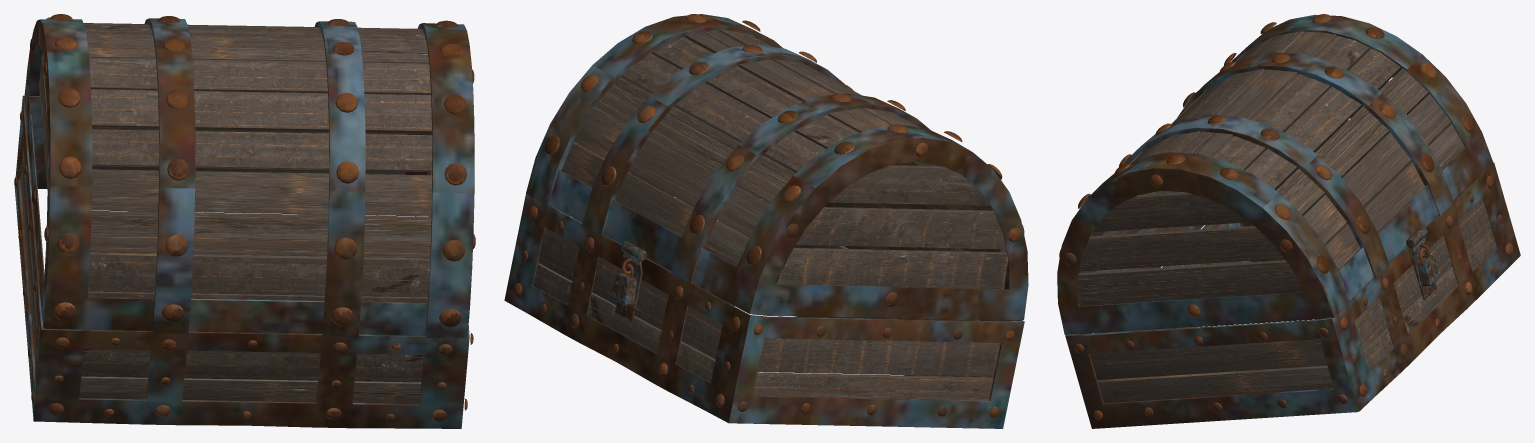
File: chest-transformed.glb
3 views of the same model, side by side, from view 1: azimuth 30°, elevation 25°; view 2: azimuth 150°, elevation 25°; view 3: azimuth 270°, elevation 25° (orthographic). The views are drawn at different scales.
Parts seen in each view (by area): view 1: Object_60; view 2: Object_60; view 3: Object_60.
Boxes of the visible parts, x1,y1,x2,y2 form: Object_60: [14, 14, 475, 428]; Object_60: [504, 14, 1028, 428]; Object_60: [1057, 14, 1520, 428].
Bounding box in the file's own units: 1.85 × 1.31 × 1.81.
Materials: 3 (3 with a texture image).
